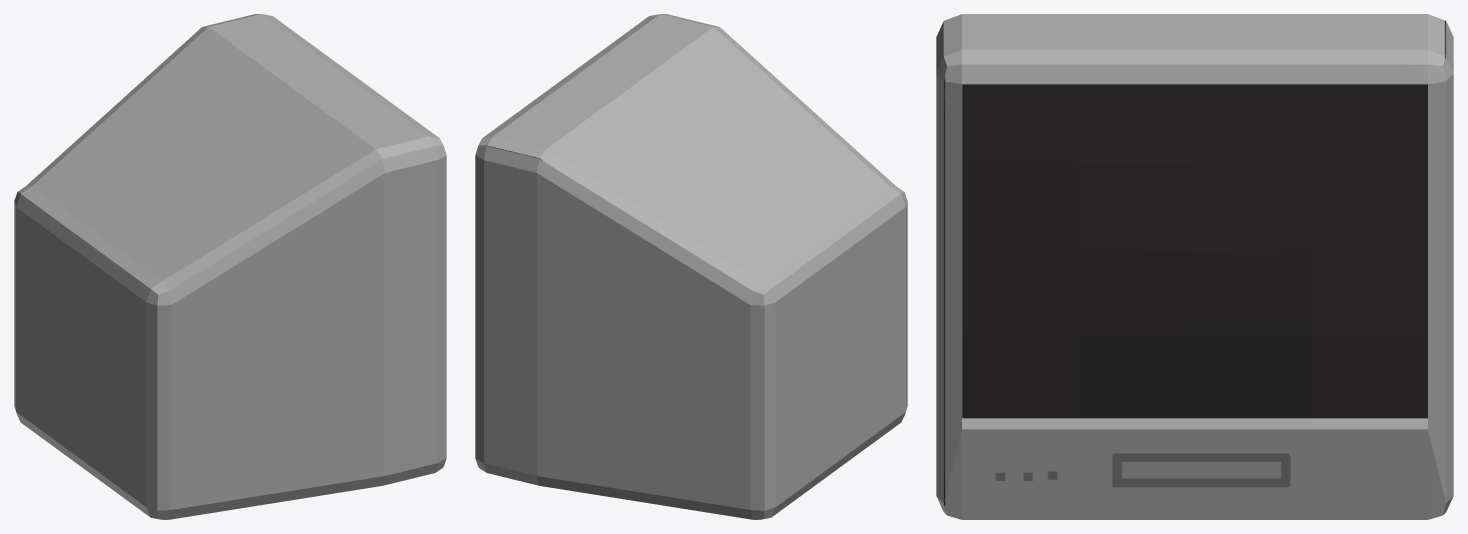
File: Television.fbx
The picture shows the model from 3 angles, left to right: view 1: azimuth 30°, elevation 25°; view 2: azimuth 150°, elevation 25°; view 3: azimuth 270°, elevation 25°; orthographic projection. The views are drawn at different scales.
Visible parts, largest first — view 1: Cube; view 2: Cube; view 3: Cube.
Boxes of the visible parts, bbox=[...] form: Cube: bbox=[14, 14, 446, 519]; Cube: bbox=[475, 14, 907, 519]; Cube: bbox=[936, 14, 1453, 519].
Bounding box in the file's own units: 174 × 200 × 200.
Materials: 1 (1 with a texture image).
